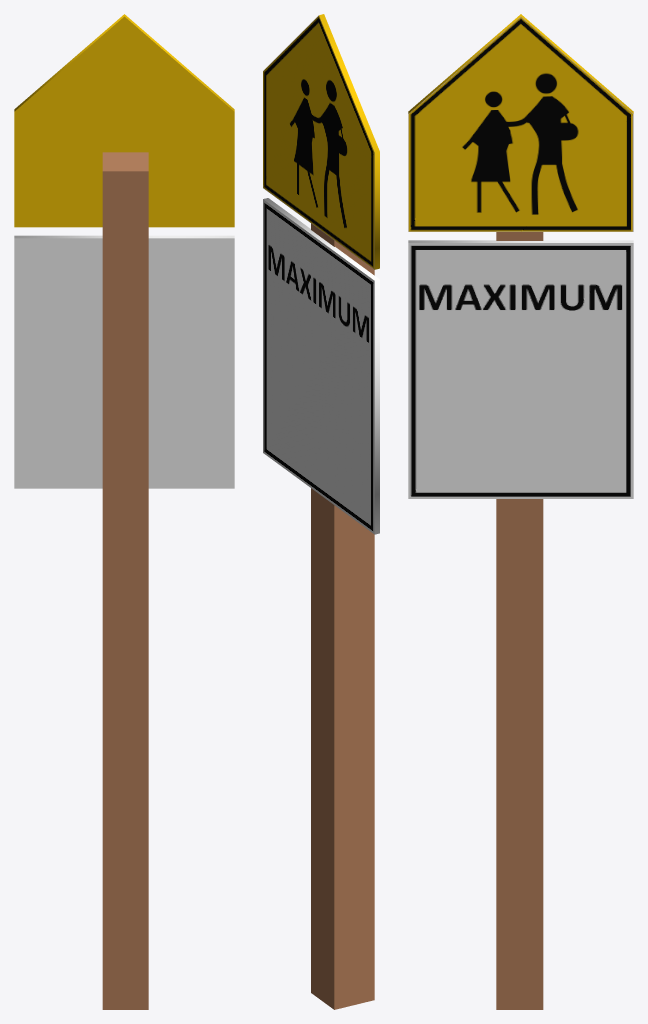
The model's file is Speedsign1.fbx.
3 views of the same model, side by side, from view 1: azimuth 90°, elevation 25°; view 2: azimuth 210°, elevation 25°; view 3: azimuth 270°, elevation 25° (orthographic). The views are drawn at different scales.
Visible parts, largest first — view 1: Cylinder.001_Cylinder.001; view 2: Cylinder.001_Cylinder.001; view 3: Cylinder.001_Cylinder.001.
Part boxes in pixels (x1,y1,x2,y2): Cylinder.001_Cylinder.001: (14,14,234,1009); Cylinder.001_Cylinder.001: (263,14,379,1009); Cylinder.001_Cylinder.001: (408,14,633,1009).
Bounding box in the file's own units: 17.29 × 365 × 74.77.
